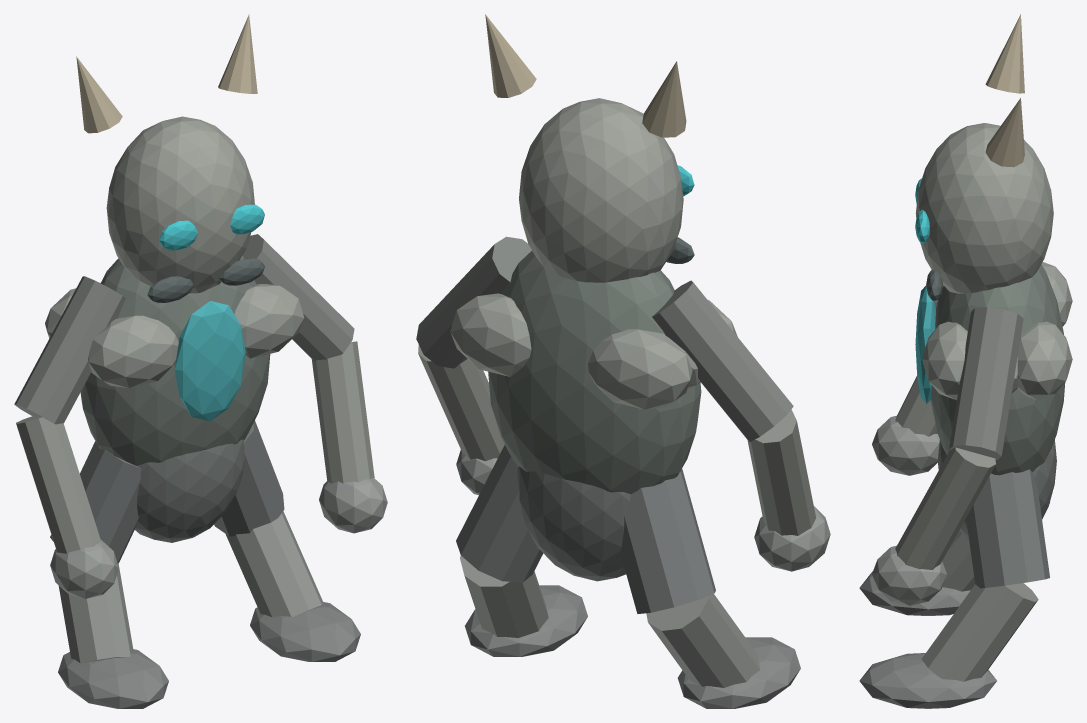
Rendered from crypt-warden.glb.
3 views of the same model, side by side, from view 1: azimuth 30°, elevation 25°; view 2: azimuth 150°, elevation 25°; view 3: azimuth 270°, elevation 25° (orthographic). The views are drawn at different scales.
Parts seen in each view (by area): view 1: world; view 2: world; view 3: world.
Boxes of the visible parts, bbox=[...] form: world: bbox=[14, 14, 387, 708]; world: bbox=[416, 14, 830, 708]; world: bbox=[859, 14, 1072, 708].
Bounding box in the file's own units: 1.23 × 2.11 × 0.68.
